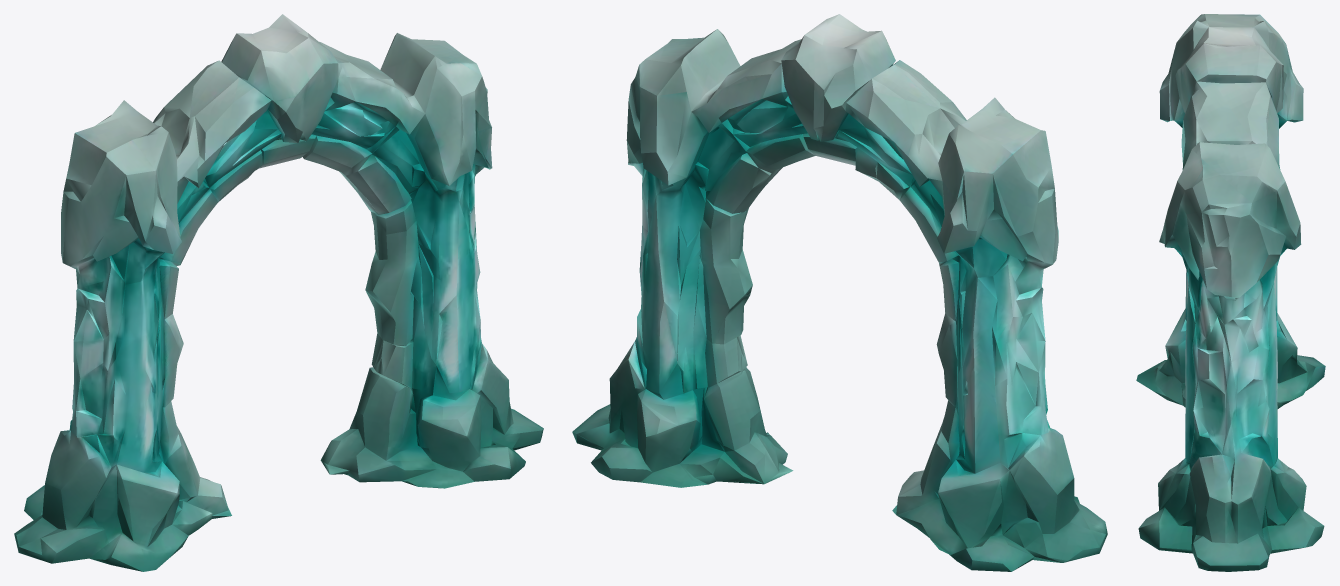
Rendered from m2IceGate.glb.
The picture shows the model from 3 angles, left to right: view 1: azimuth 30°, elevation 25°; view 2: azimuth 150°, elevation 25°; view 3: azimuth 270°, elevation 25°; orthographic projection. The views are drawn at different scales.
Parts seen in each view (by area): view 1: model; view 2: model; view 3: model.
Boxes of the visible parts, x1,y1,x2,y2 form: model: (14, 14, 543, 571); model: (572, 14, 1107, 571); model: (1136, 14, 1325, 571).
Size of the model in its own units: 1.9 by 1.62 by 0.6586.
Materials: 1 (1 with a texture image).
